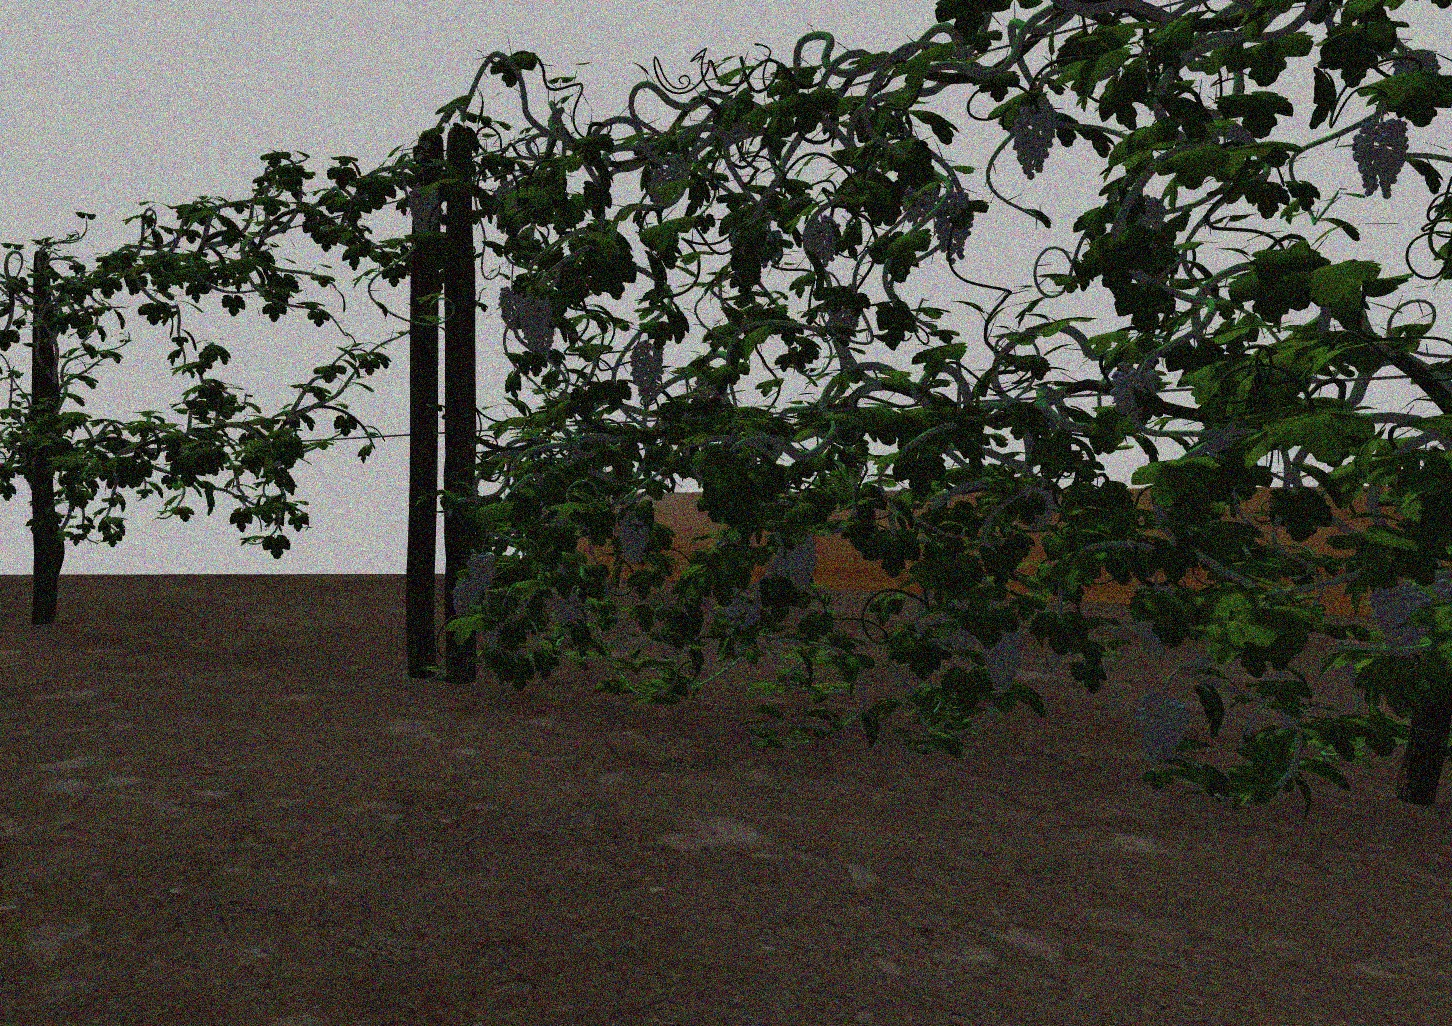grape: (1371, 580, 1433, 658), (1352, 117, 1411, 199), (1137, 694, 1189, 765), (1110, 360, 1161, 432), (1011, 97, 1056, 178), (981, 626, 1027, 698), (934, 193, 974, 263), (517, 295, 559, 358), (782, 536, 818, 600), (627, 342, 663, 402), (616, 510, 651, 567), (806, 217, 839, 266), (407, 187, 441, 234), (549, 585, 582, 634), (724, 596, 764, 631), (452, 577, 484, 618), (468, 551, 500, 590), (498, 286, 525, 328)
